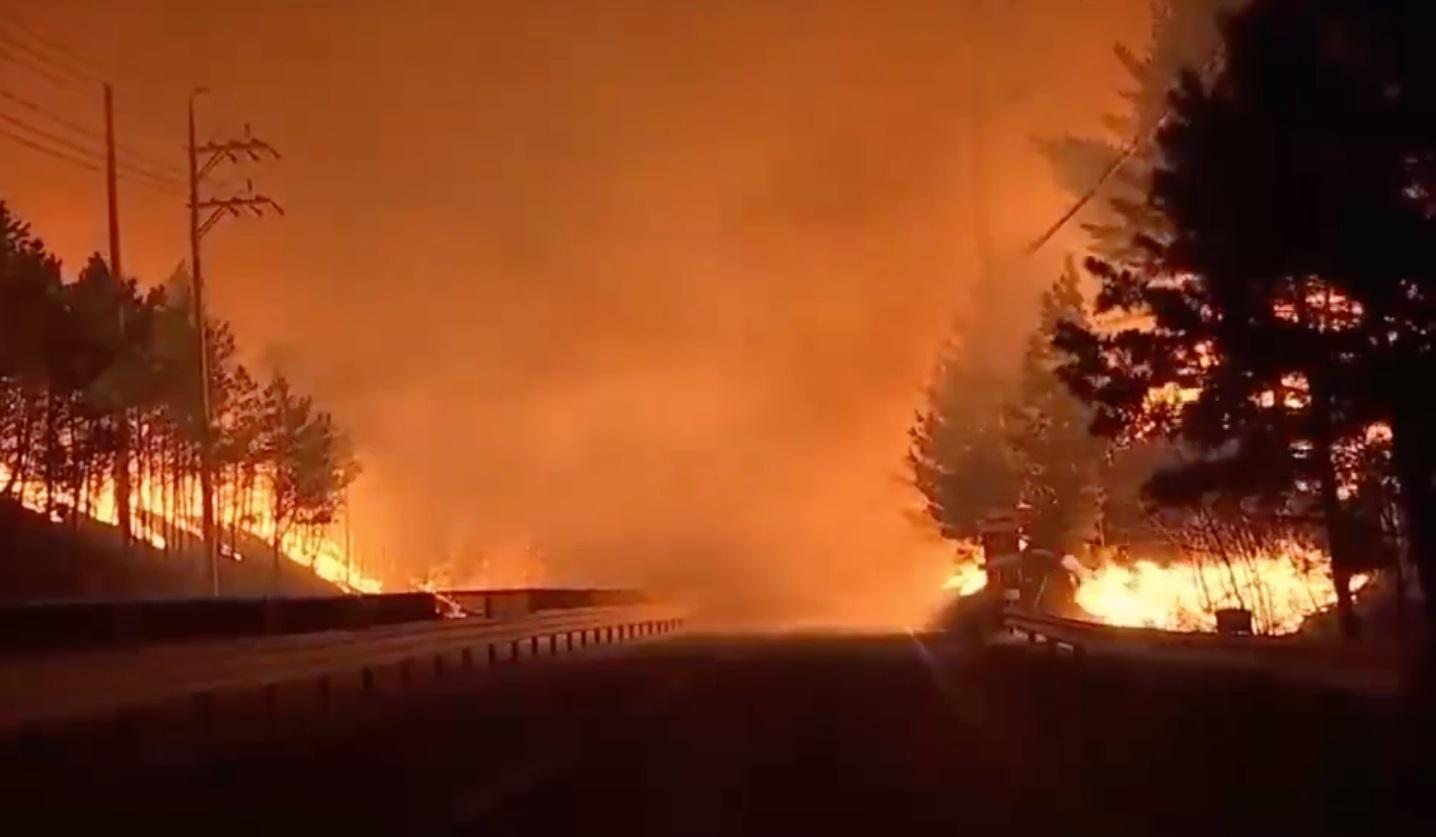fire: (1110, 560, 1340, 630), (130, 478, 262, 512), (296, 540, 366, 586)
